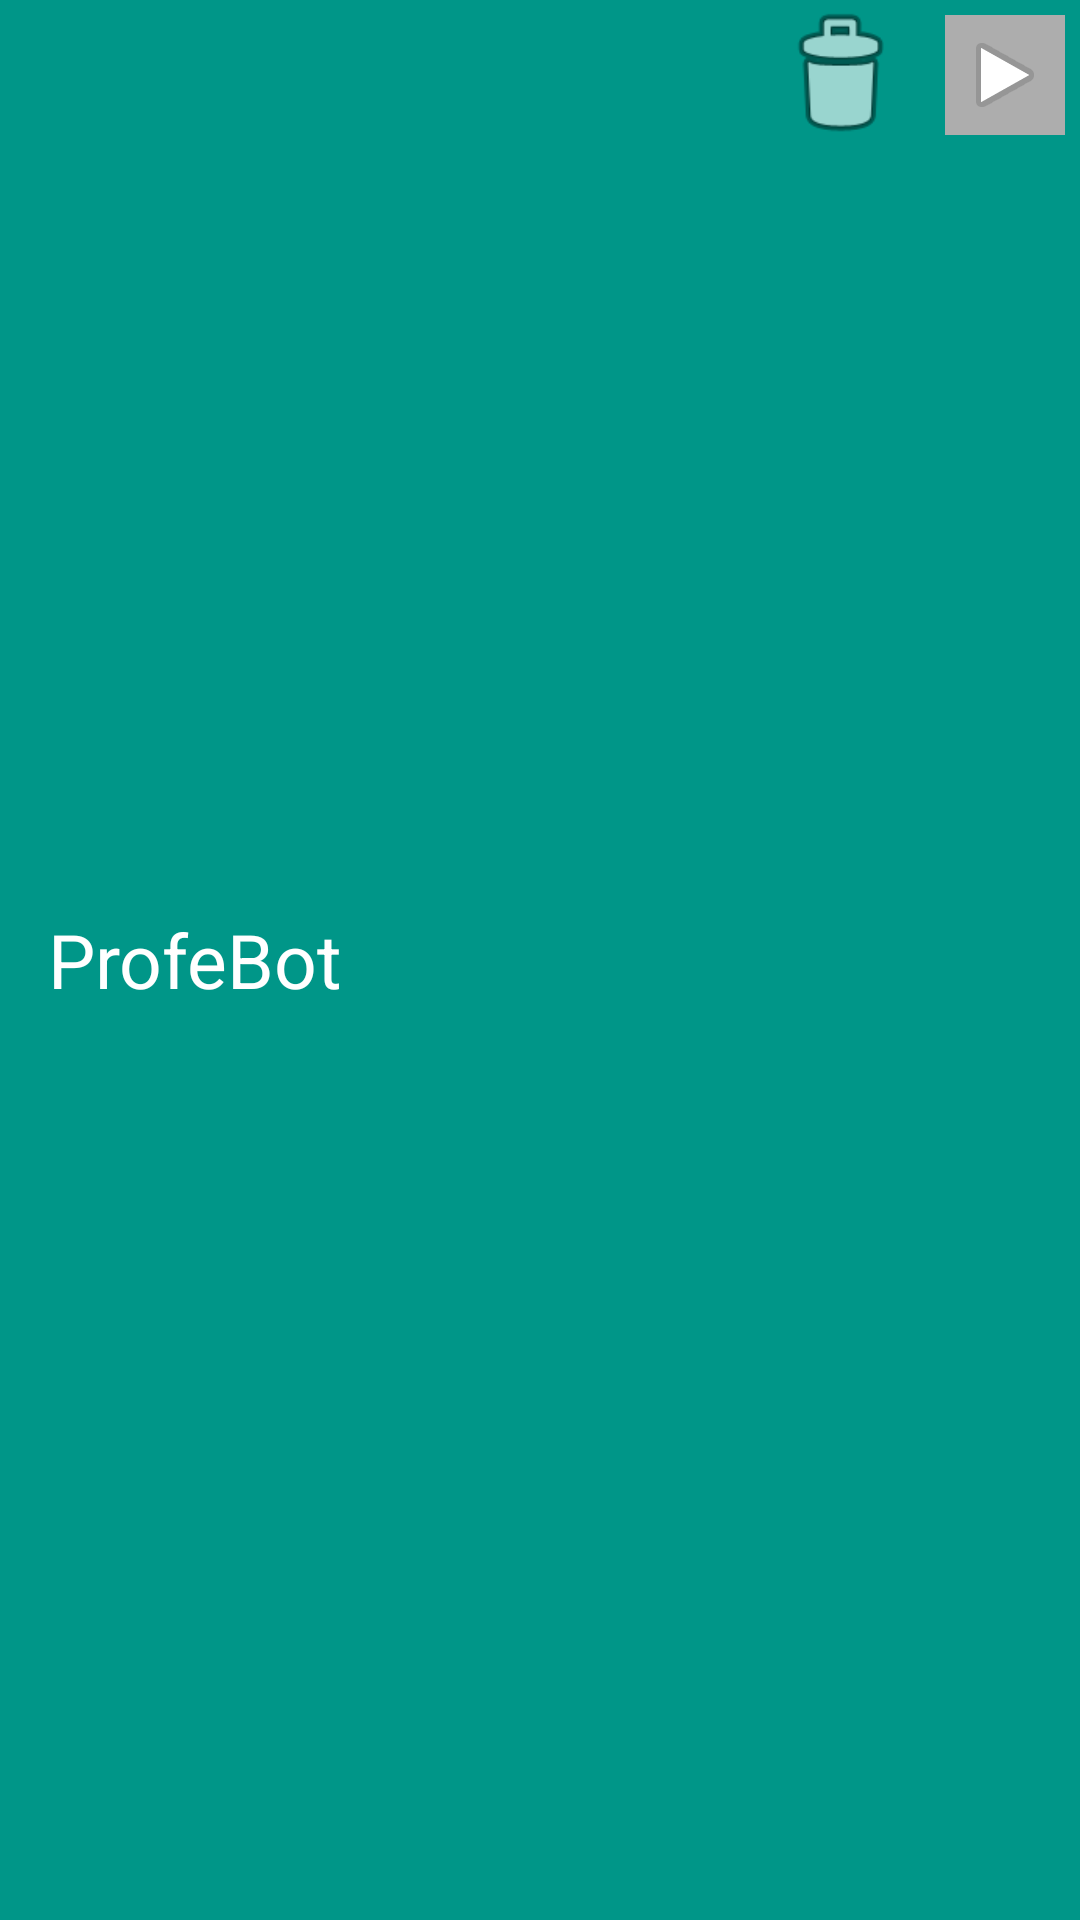

Icon click points for this 1080 x 1920 phone screenshot, format point (x, y):
delete: point (841, 72)
play: point (1005, 75)
